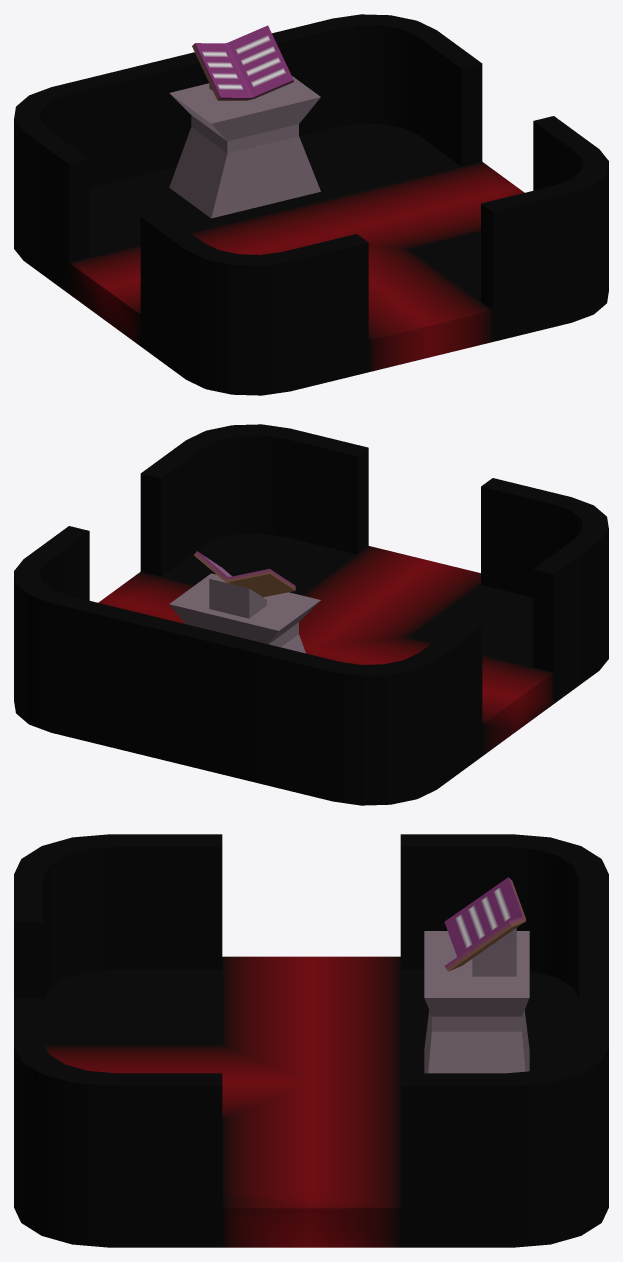
File: Tile_T_Sangtum.fbx
3 views of the same model, one above another, from view 1: azimuth 30°, elevation 25°; view 2: azimuth 150°, elevation 25°; view 3: azimuth 270°, elevation 25° (orthographic). The views are drawn at different scales.
Visible parts, largest first — view 1: T_finish_room; view 2: T_finish_room; view 3: T_finish_room.
Part boxes in pixels (x1=…): T_finish_room: x1=14, y1=14, x2=608, y2=395; T_finish_room: x1=14, y1=424, x2=608, y2=805; T_finish_room: x1=14, y1=834, x2=608, y2=1247.
Size of the model in its own units: 100 by 41.18 by 100.
